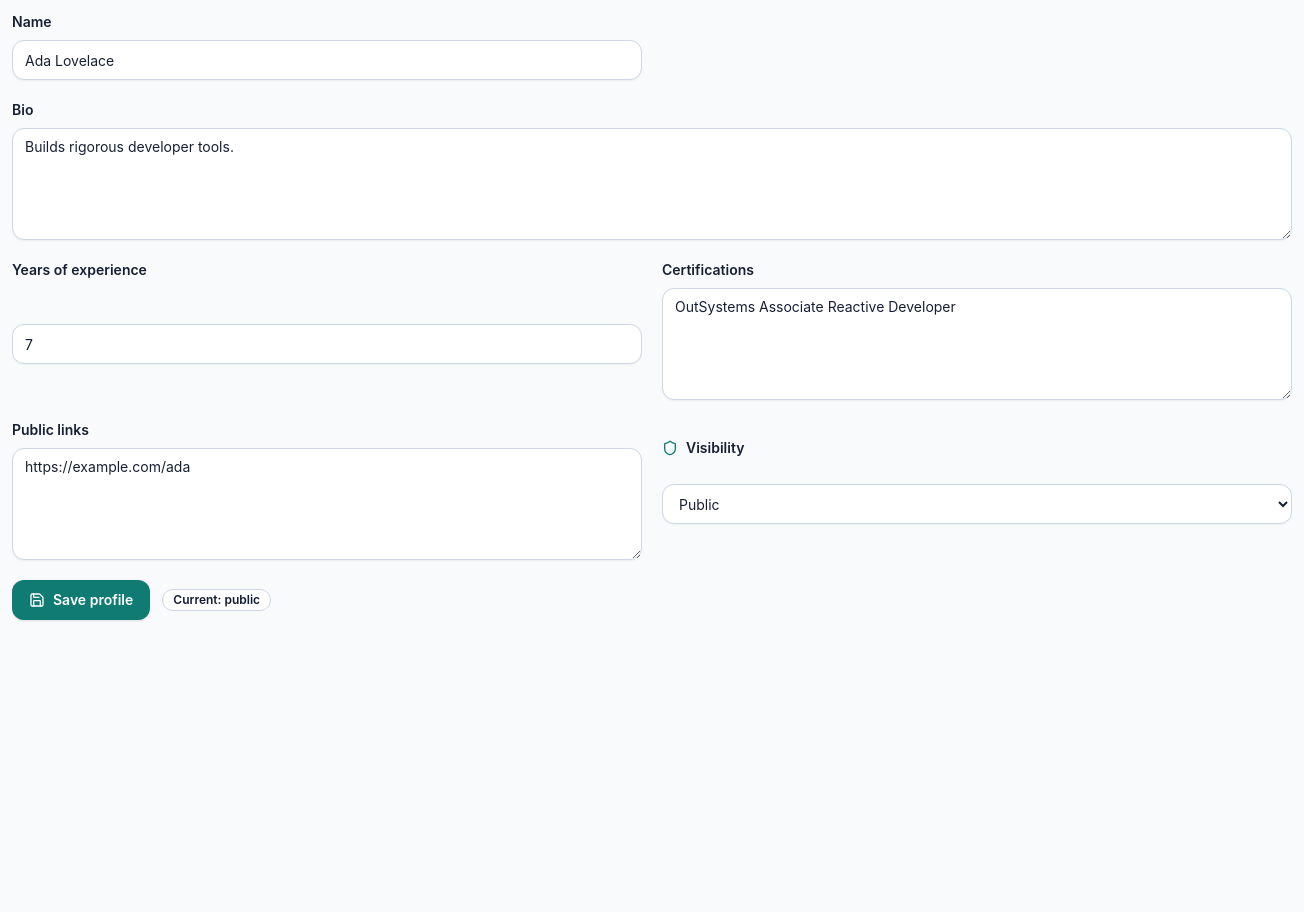
Test: ProfileEditor › submits valid profile updates and reports the saved profile
The image size is (1304, 912).
Step 1. Replace the text in the field labelled "Name" with "Ada Byron" → (327, 60), box [12, 40, 642, 80]
Step 2. Replace the text in the text box labelled "Bio" with "Documents platform engineering work." → (652, 184), box [12, 128, 1292, 240]
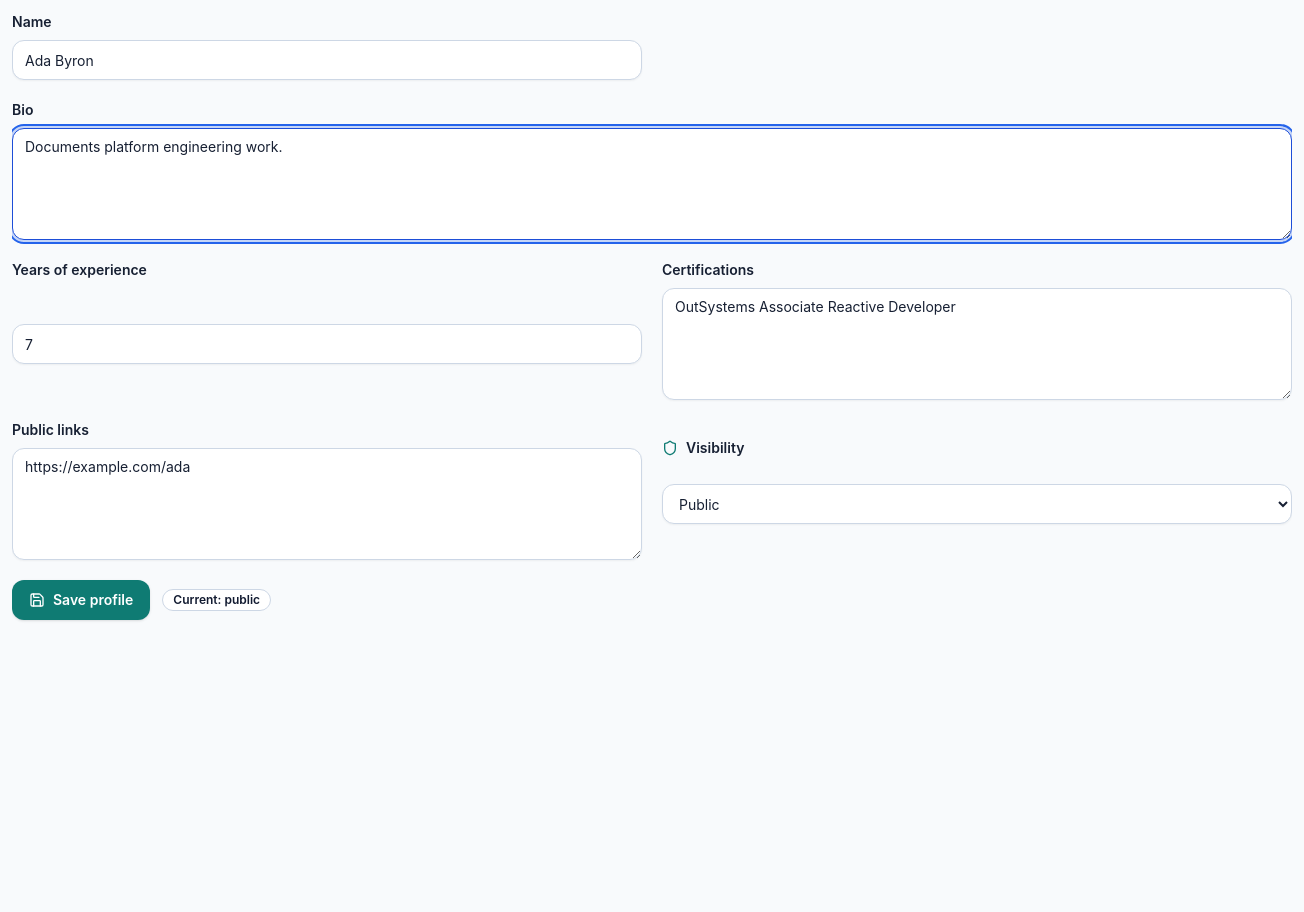
Step 3. Replace the text in the number field labelled "Years of experience" with "8" → (327, 344), box [12, 324, 642, 364]
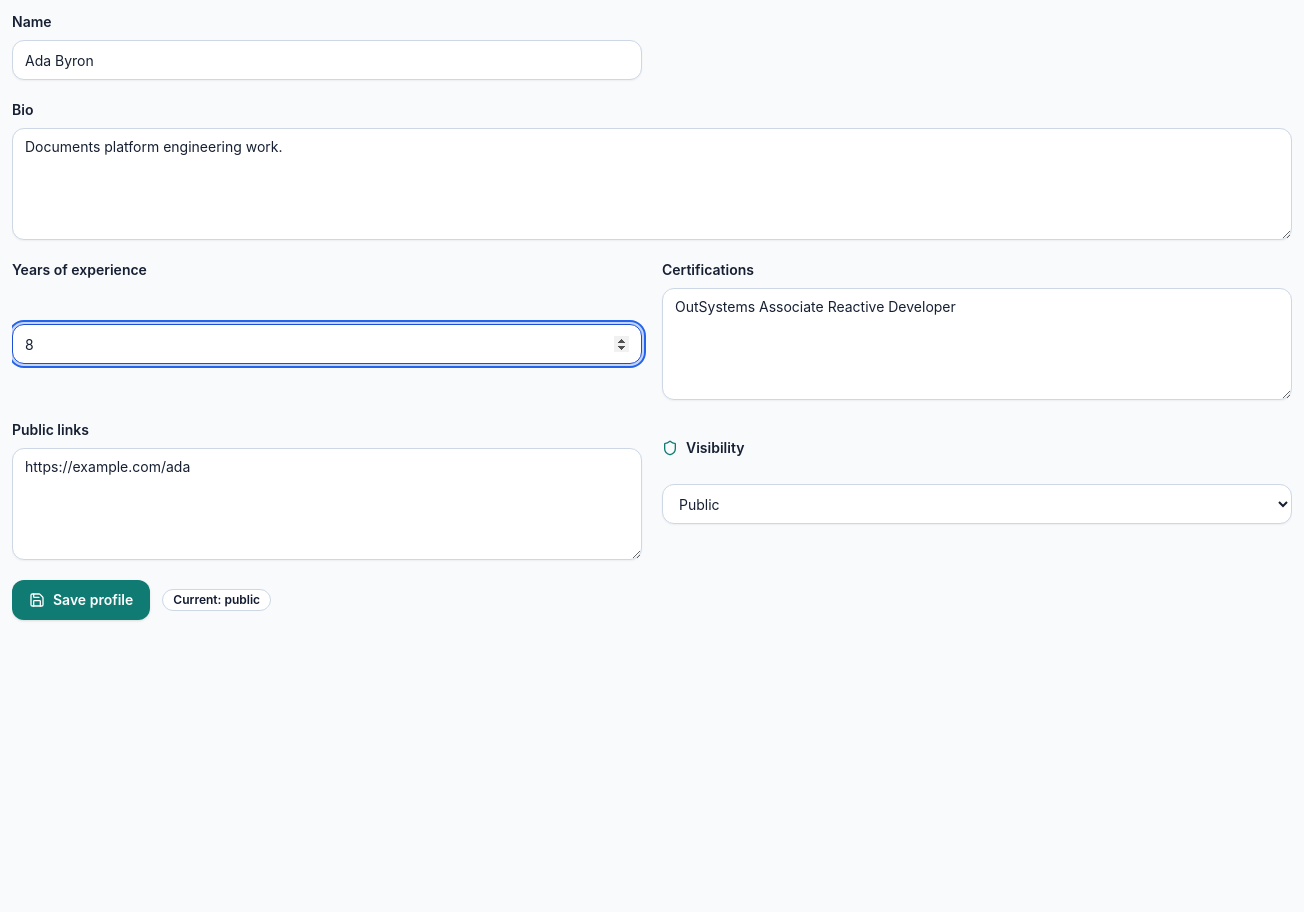
Step 4. Replace the text in the text box labelled "Certifications" with "OutSystems Professional Developer" → (977, 344), box [662, 288, 1292, 400]
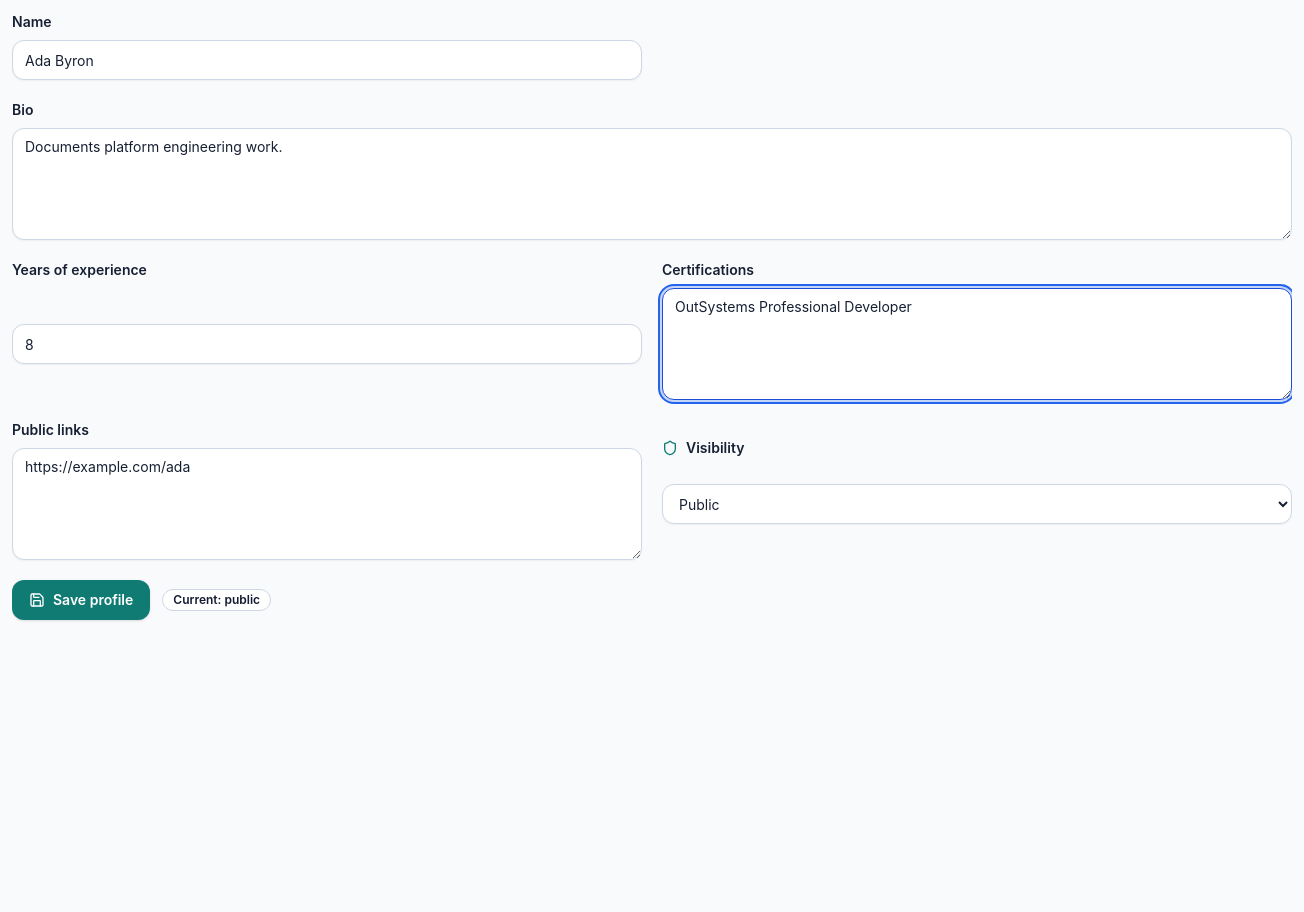
Step 5. Replace the text in the text box labelled "Public links" with "https://example.com/ada-updated" → (327, 504), box [12, 448, 642, 560]
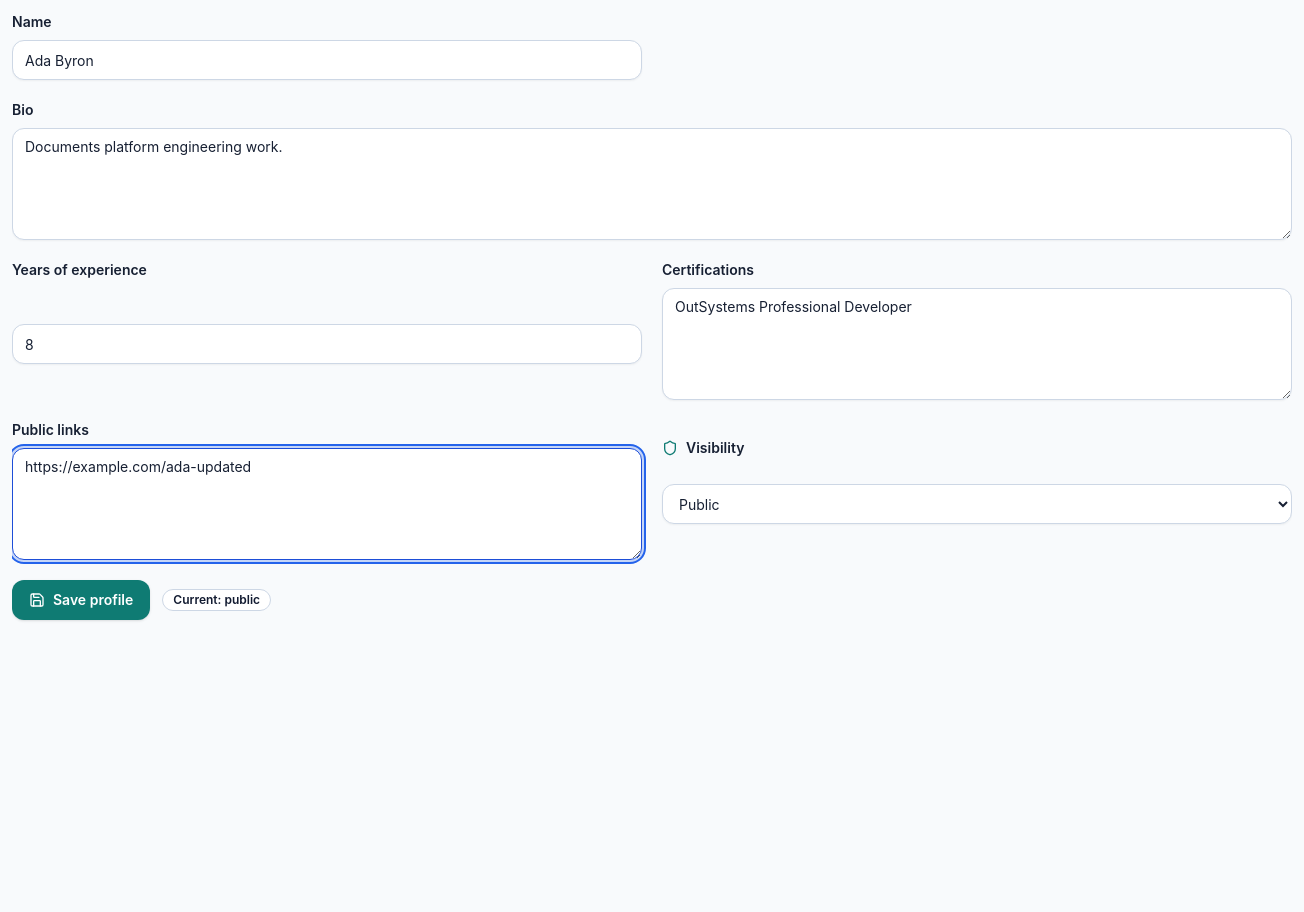
Step 6. Select "Unlisted" in the dropdown labelled "Visibility" → (977, 504), box [662, 484, 1292, 524]
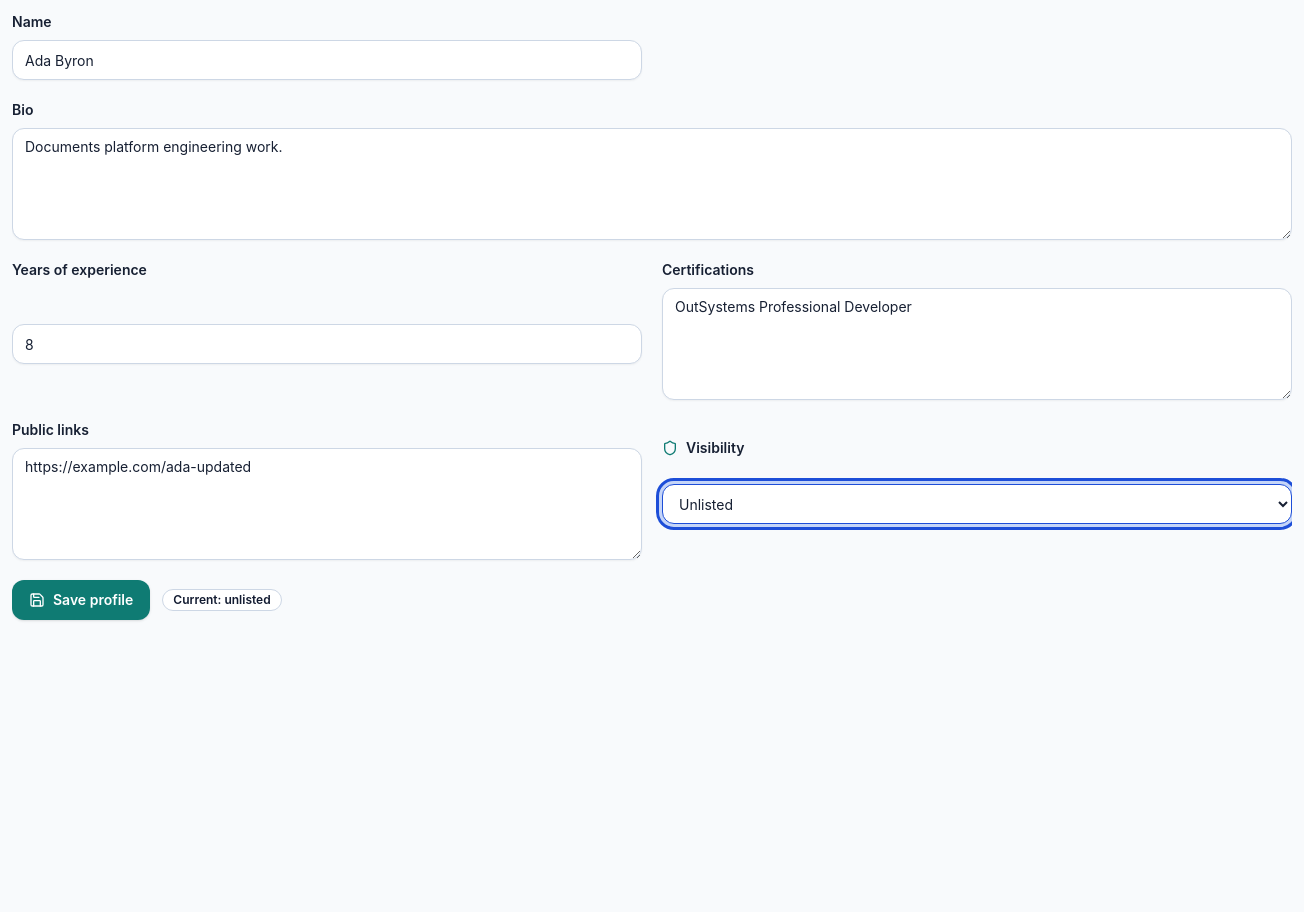
Step 7. Click the button "Save profile" → (81, 600), box [12, 580, 150, 620]
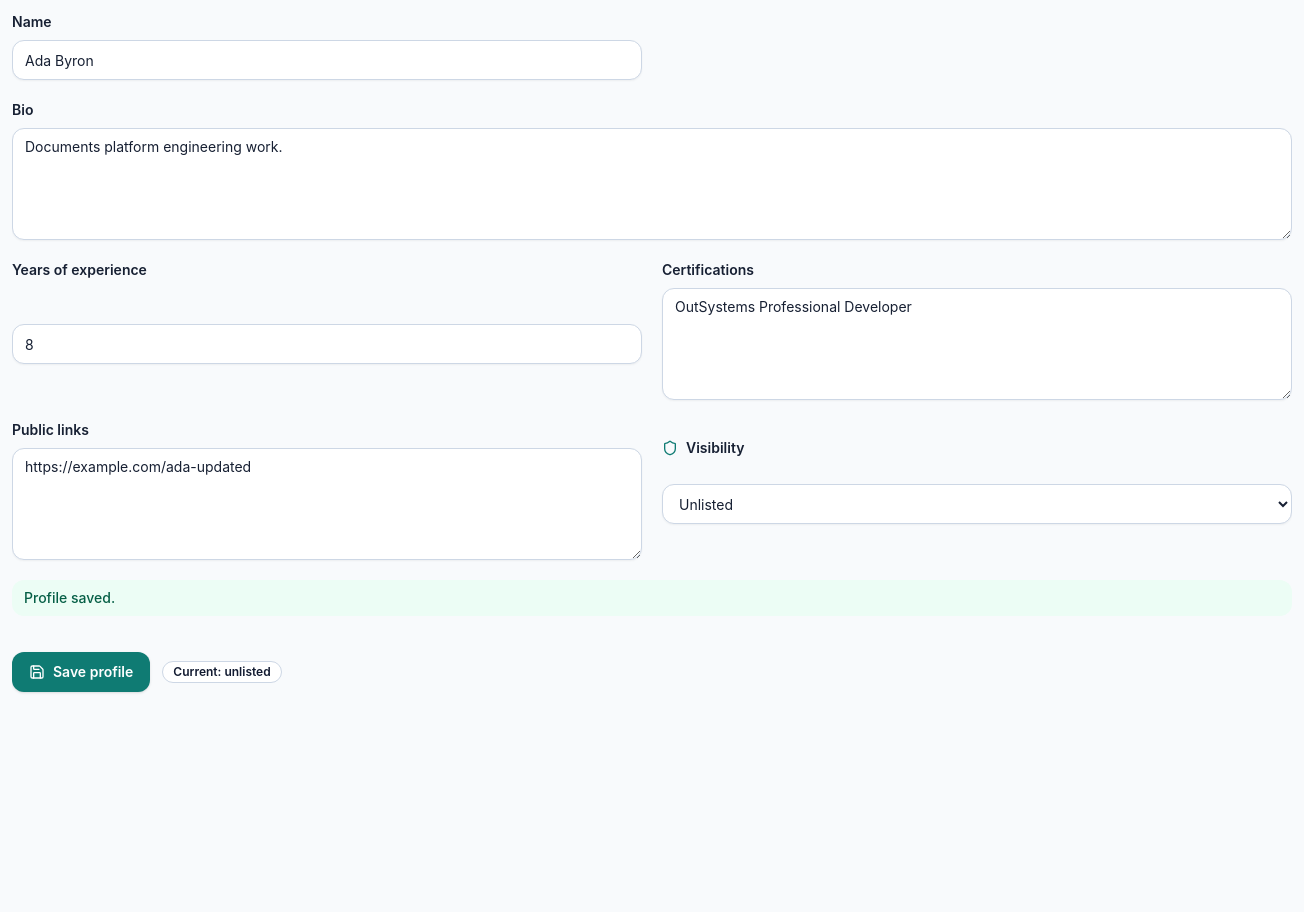
Expected: the text "Profile saved." is shown, [12, 580, 1292, 616]
